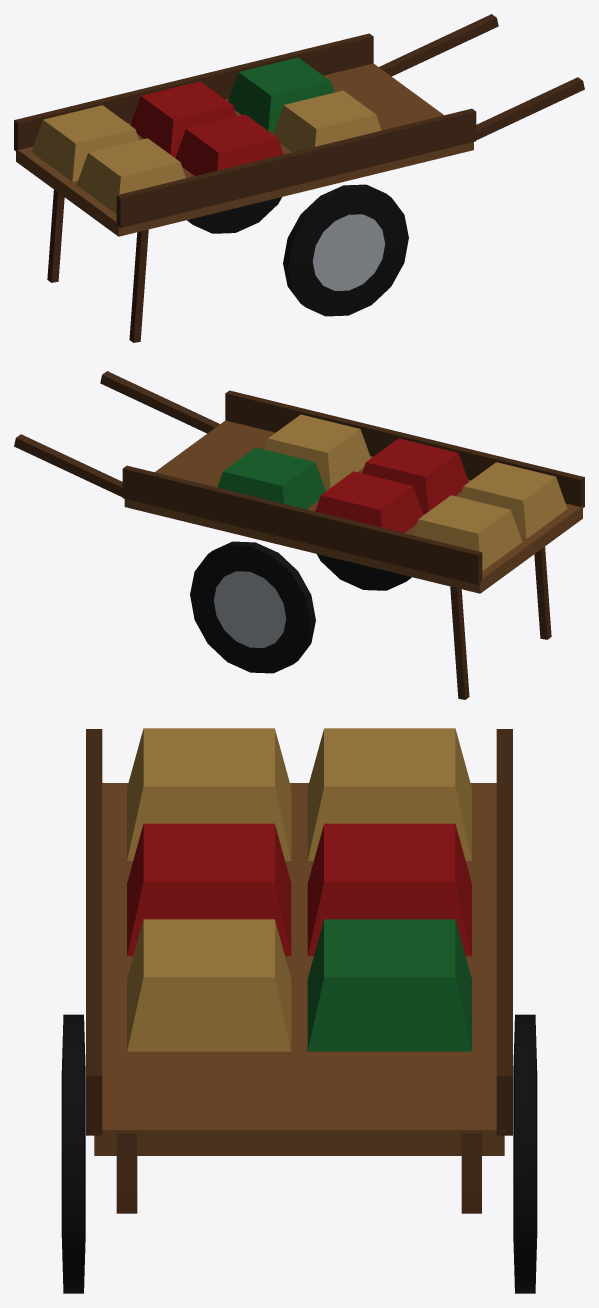
Rendered from hand_cart.glb.
3 renders of one model, top to bottom at view 1: azimuth 30°, elevation 25°; view 2: azimuth 150°, elevation 25°; view 3: azimuth 270°, elevation 25°, orthographic. The views are drawn at different scales.
Visible parts, largest first — view 1: hand_cart_body, wheel_r.003, wheel_l; view 2: hand_cart_body, wheel_l, wheel_r.003; view 3: hand_cart_body, wheel_l, wheel_r.003.
Boxes of the visible parts, bbox=[...] form: hand_cart_body: bbox=[14, 14, 584, 342]; wheel_r.003: bbox=[283, 184, 408, 316]; wheel_l: bbox=[187, 197, 281, 233]; hand_cart_body: bbox=[14, 371, 584, 699]; wheel_l: bbox=[190, 541, 315, 673]; wheel_r.003: bbox=[317, 554, 411, 590]; hand_cart_body: bbox=[86, 728, 512, 1213]; wheel_l: bbox=[513, 1014, 537, 1293]; wheel_r.003: bbox=[61, 1014, 85, 1293].
Size of the model in its own units: 2.66 by 0.94 by 1.16.
Materials: 1 (1 with a texture image).
